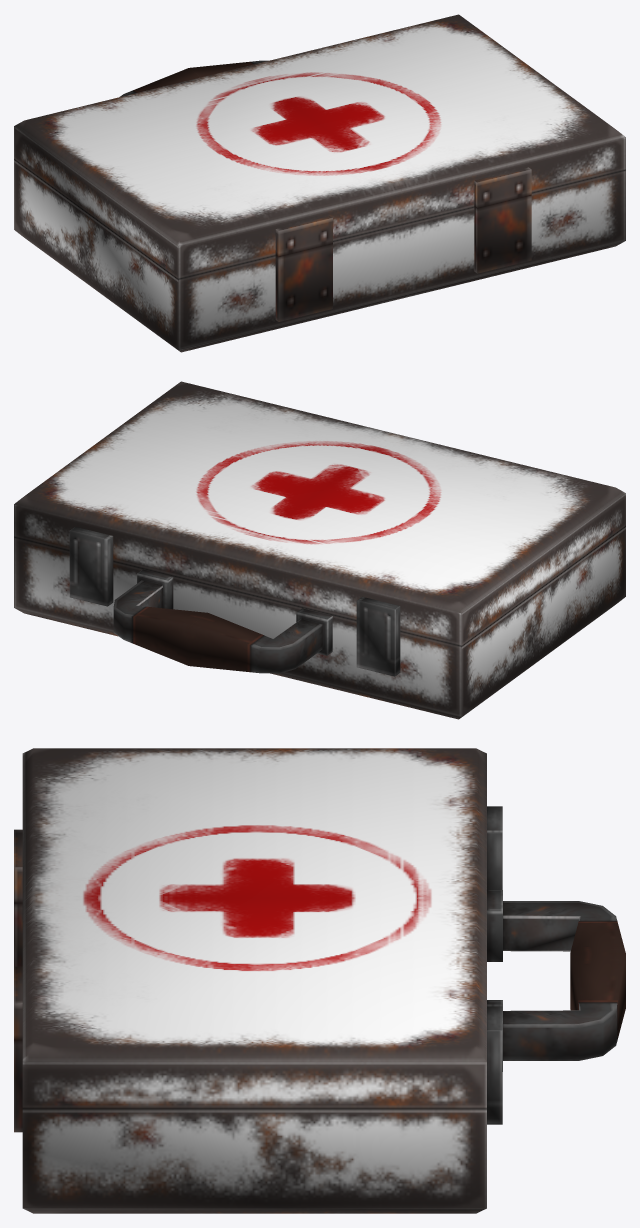
Rendered from Item-HealthKit_Anim.FBX.
3 renders of one model, top to bottom at view 1: azimuth 30°, elevation 25°; view 2: azimuth 150°, elevation 25°; view 3: azimuth 270°, elevation 25°, orthographic. The views are drawn at different scales.
Parts seen in each view (by area): view 1: Healt_kit; view 2: Healt_kit; view 3: Healt_kit.
Part boxes in pixels (bbox=[...]): Healt_kit: bbox=[14, 14, 625, 352]; Healt_kit: bbox=[14, 381, 625, 719]; Healt_kit: bbox=[14, 748, 625, 1213].
Bounding box in the file's own units: 62.86 × 15.73 × 52.69.
